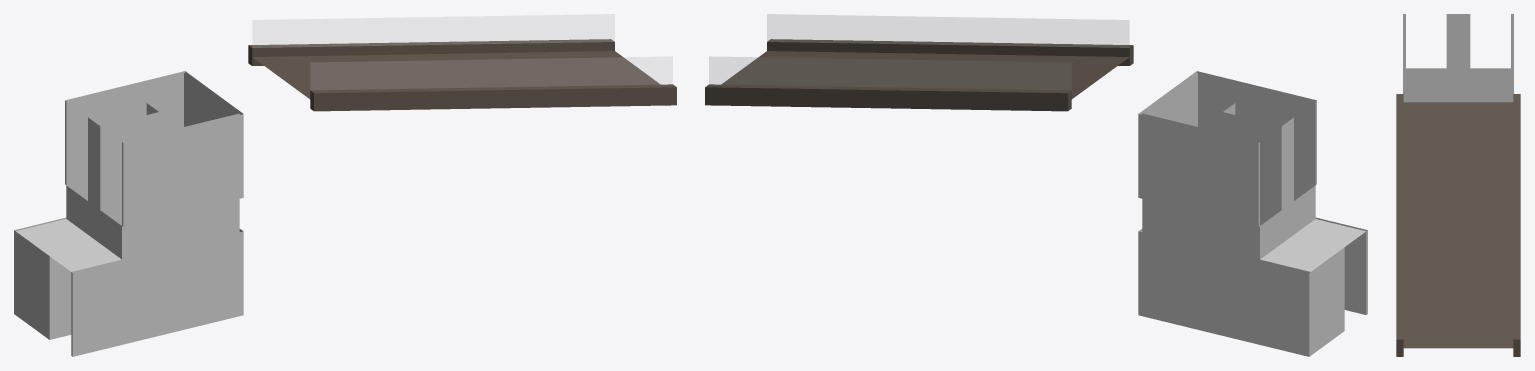
Rendered from Stairs.glb.
3 renders of one model, left to right at view 1: azimuth 30°, elevation 25°; view 2: azimuth 150°, elevation 25°; view 3: azimuth 270°, elevation 25°, orthographic. The views are drawn at different scales.
Visible parts, largest first — view 1: StairsBack, StairsSecondThirdFloor; view 2: StairsBack, StairsSecondThirdFloor; view 3: StairsSecondThirdFloor, StairsBack.
Boxes of the visible parts, x1,y1,x2,y2 form: StairsBack: (14,71,243,356); StairsSecondThirdFloor: (248,14,676,111); StairsBack: (1138,71,1367,356); StairsSecondThirdFloor: (705,14,1133,111); StairsSecondThirdFloor: (1396,94,1520,356); StairsBack: (1403,14,1513,102).
Size of the model in its own units: 22.48 by 8.45 by 4.26.
